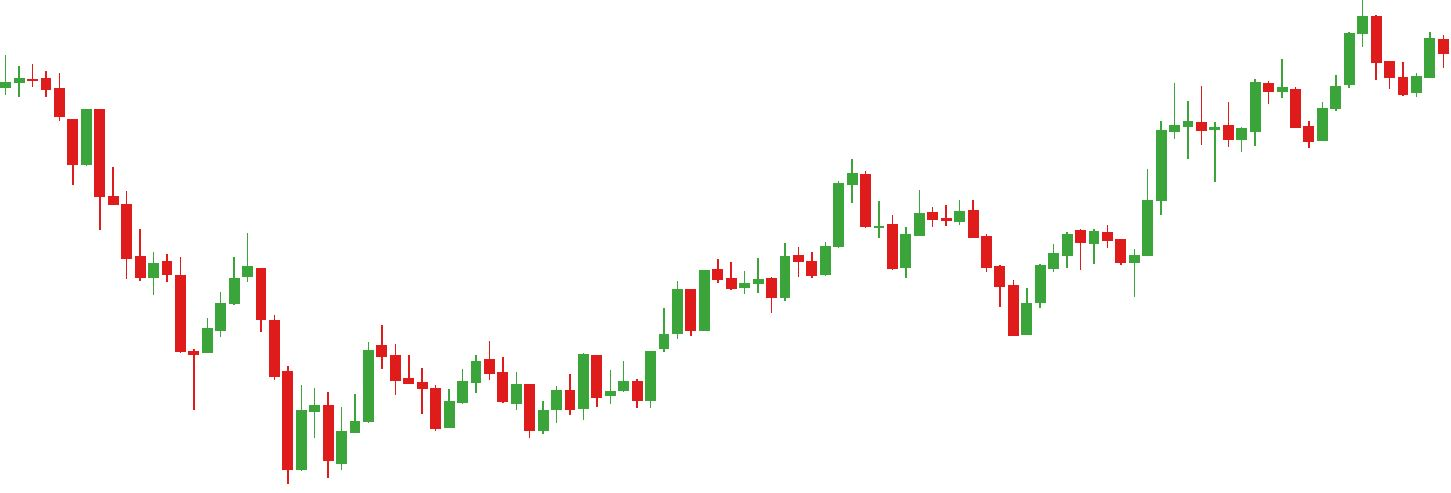buy: (187, 292, 310, 489), (885, 206, 1047, 346), (428, 379, 552, 446), (1074, 238, 1140, 300)
